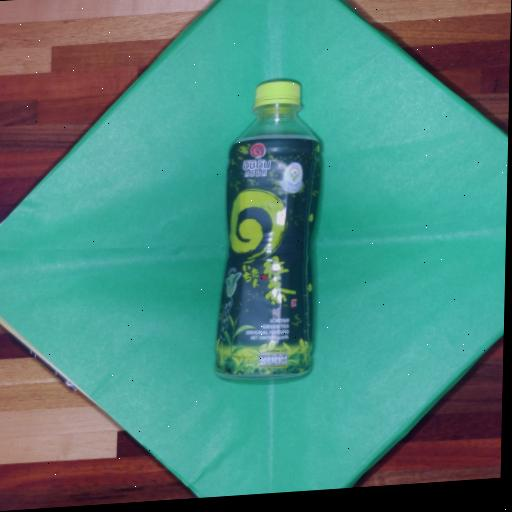bottle: (216, 80, 319, 376)
